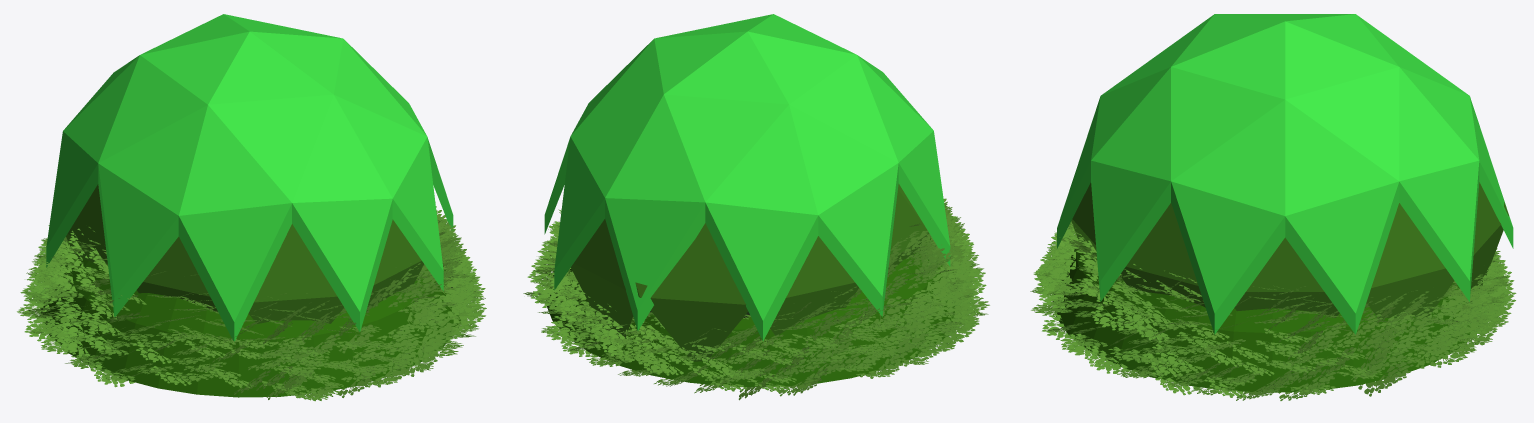
File: bushes 3.fbx
3 views of the same model, side by side, from view 1: azimuth 30°, elevation 25°; view 2: azimuth 150°, elevation 25°; view 3: azimuth 270°, elevation 25° (orthographic). The views are drawn at different scales.
Parts seen in each view (by area): view 1: Icosphere.002, Plane.734; view 2: Icosphere.002, Plane.734; view 3: Icosphere.002, Plane.734.
Part boxes in pixels (left/top/right/bottom): Icosphere.002: left=46, top=14, right=453, bottom=341; Plane.734: left=17, top=202, right=486, bottom=401; Icosphere.002: left=544, top=14, right=950, bottom=361; Plane.734: left=523, top=198, right=989, bottom=400; Icosphere.002: left=1057, top=14, right=1513, bottom=334; Plane.734: left=1030, top=221, right=1516, bottom=400.
Bounding box in the file's own units: 217 × 143 × 217.
